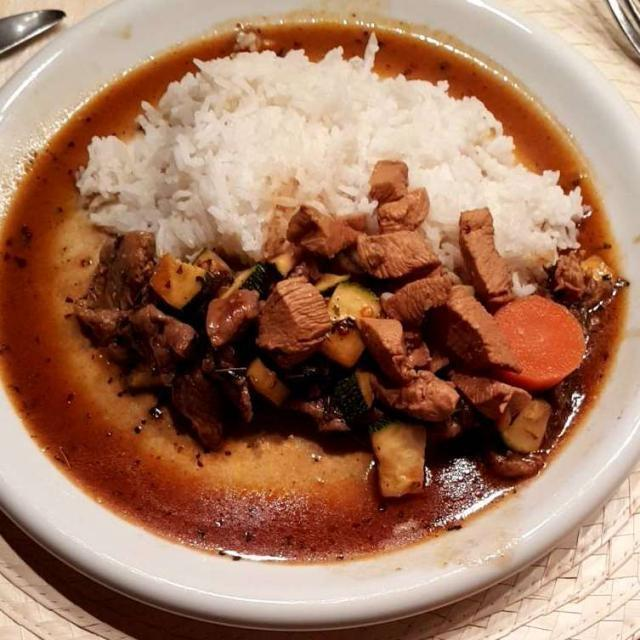mixed-vegetables: (166, 227, 605, 389)
rice: (83, 48, 566, 277)
